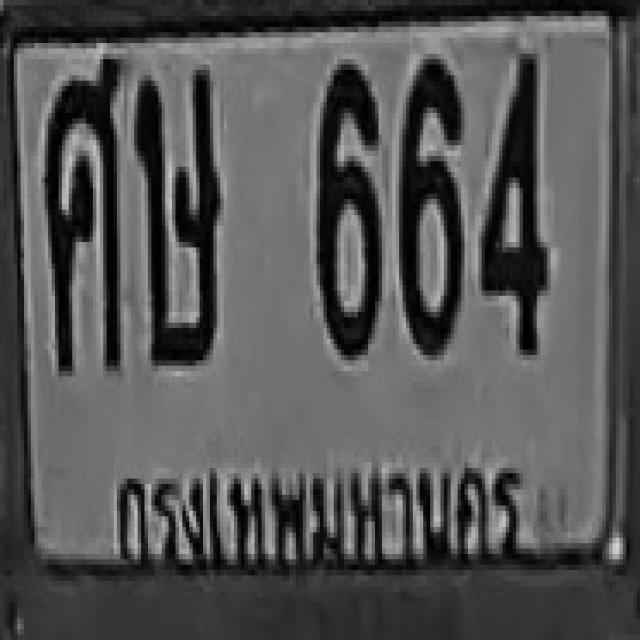4: (478, 51, 547, 352)
6: (316, 61, 382, 358), (399, 54, 461, 355)
A38: (43, 56, 122, 368)
A39: (134, 67, 220, 363)
BKK: (102, 420, 534, 593)
